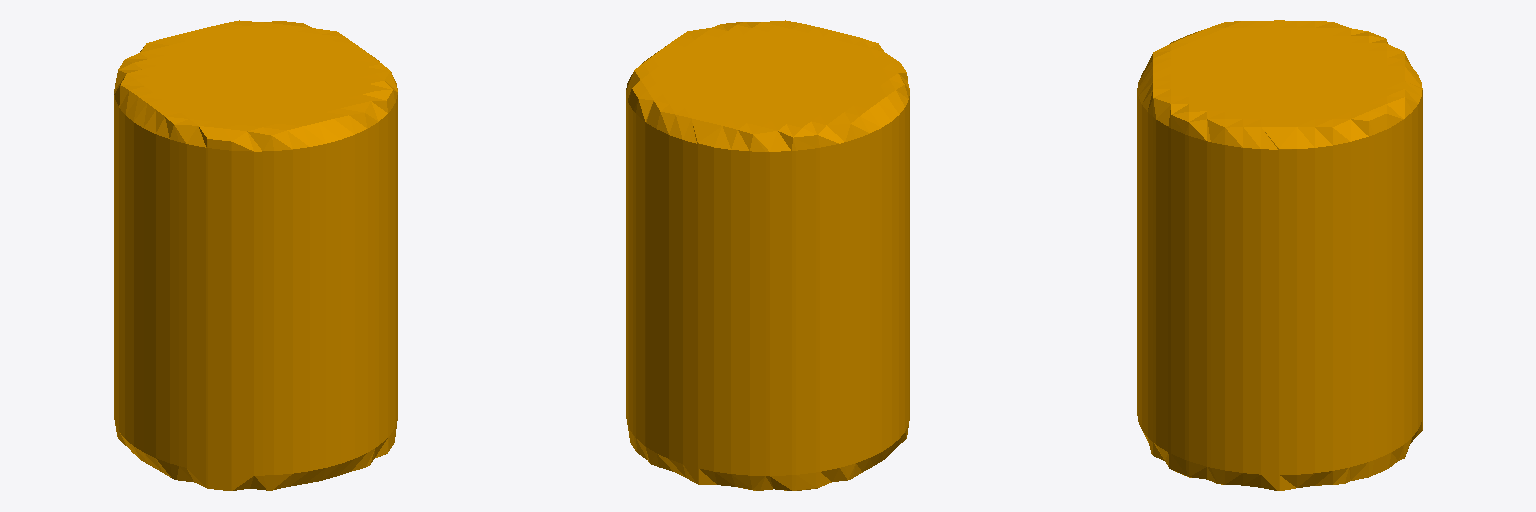
robot.urdf — cylinder_../../meshes/cylinders/cylinder_144.stl:
<?xml version="1.0" encoding="utf-8"?>  <robot name="cylinder_../../meshes/cylinders/cylinder_144.stl">   <link name="cylinder_../../meshes/cylinders/cylinder_144.stl">     <visual>       <geometry>         <mesh filename="../meshes/cylinders/cylinder_144.stl" scale="1 1 1"/>       </geometry>     </visual>     <collision>       <geometry>         <mesh filename="../meshes/cylinders/cylinder_144.stl" scale="1 1 1"/>       </geometry>     </collision>     <inertial>        <origin         xyz="0 0 0"         rpy="0 0 0" />       <mass value="0.5413818207860056"/>       <origin rpy="0 0 0" xyz="0 0 0"/>       <inertia ixx="0.000753911503744009" ixy="-1.569644411963413e-08" ixz="1.3390712826449474e-07" iyy="0.0007539118182727732" iyz="1.3556382899922737e-07" izz="0.0004237161372129288"/>     </inertial>   </link>  </robot>

--- Facts derived from the render (not from the file) ---
The picture shows the robot from 3 angles, left to right: view 1: azimuth 30°, elevation 25°; view 2: azimuth 150°, elevation 25°; view 3: azimuth 270°, elevation 25°; orthographic projection.
Model cylinder_../../meshes/cylinders/cylinder_144.stl with 1 links and 0 joints (none), rooted at cylinder_../../meshes/cylinders/cylinder_144.stl, posed every joint at zero.
Visible links, largest first — view 1: cylinder_../../meshes/cylinders/cylinder_144.stl; view 2: cylinder_../../meshes/cylinders/cylinder_144.stl; view 3: cylinder_../../meshes/cylinders/cylinder_144.stl.
Link boxes in pixels (left/top/right/bottom): cylinder_../../meshes/cylinders/cylinder_144.stl: left=114, top=20, right=397, bottom=490; cylinder_../../meshes/cylinders/cylinder_144.stl: left=626, top=20, right=909, bottom=490; cylinder_../../meshes/cylinders/cylinder_144.stl: left=1137, top=20, right=1422, bottom=490.
Size in the robot's own frame: 0.0794 by 0.0794 by 0.1102 metres.
Meshes: 1 distinct files referenced, 1 mesh visuals loaded (1 binary STL).